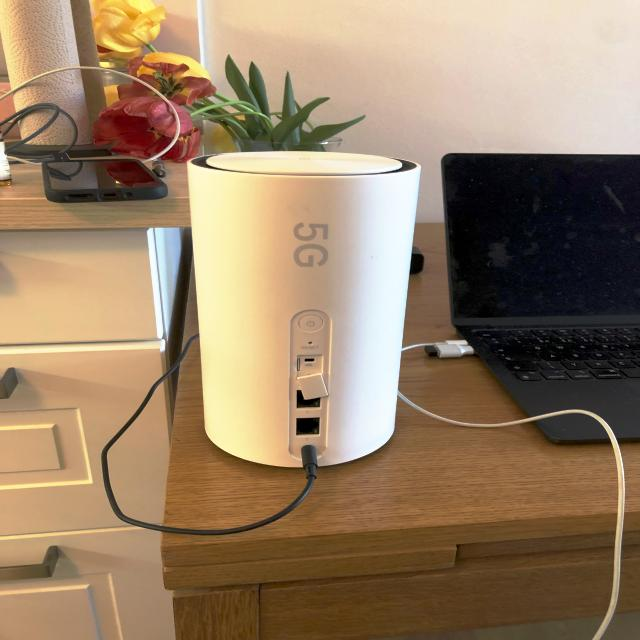lan: (295, 417, 321, 438)
modem: (186, 152, 424, 472)
onbutton: (298, 315, 324, 333)
powcab: (173, 443, 321, 548)
siminside: (292, 356, 306, 375)
